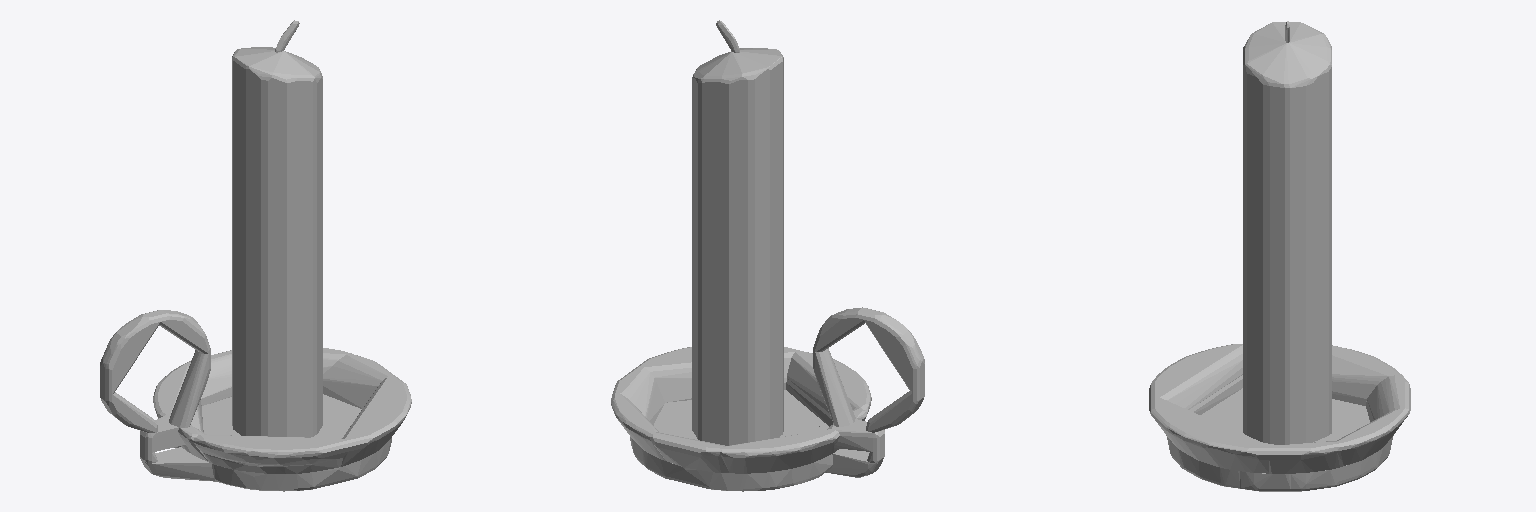
URDF robot description (root):
<robot name="root">
  <link name="body">
    <visual>
      <origin xyz="0 0 0" rpy="0 0 0"/>
      <geometry>
        <mesh filename="coacd_convex_piece_0.obj" scale="1.0000E+00 1.0000E+00 1.0000E+00"/>
      </geometry>
      <material name="">
        <color rgba="7.50E-01 7.50E-01 7.50E-01 1"/>
      </material>
    </visual>
    <collision>
      <origin xyz="0 0 0" rpy="0 0 0"/>
      <geometry>
        <mesh filename="coacd_convex_piece_0.obj" scale="1.0000E+00 1.0000E+00 1.0000E+00"/>
      </geometry>
    </collision>
    <visual>
      <origin xyz="0 0 0" rpy="0 0 0"/>
      <geometry>
        <mesh filename="coacd_convex_piece_1.obj" scale="1.0000E+00 1.0000E+00 1.0000E+00"/>
      </geometry>
      <material name="">
        <color rgba="7.50E-01 7.50E-01 7.50E-01 1"/>
      </material>
    </visual>
    <collision>
      <origin xyz="0 0 0" rpy="0 0 0"/>
      <geometry>
        <mesh filename="coacd_convex_piece_1.obj" scale="1.0000E+00 1.0000E+00 1.0000E+00"/>
      </geometry>
    </collision>
    <visual>
      <origin xyz="0 0 0" rpy="0 0 0"/>
      <geometry>
        <mesh filename="coacd_convex_piece_2.obj" scale="1.0000E+00 1.0000E+00 1.0000E+00"/>
      </geometry>
      <material name="">
        <color rgba="7.50E-01 7.50E-01 7.50E-01 1"/>
      </material>
    </visual>
    <collision>
      <origin xyz="0 0 0" rpy="0 0 0"/>
      <geometry>
        <mesh filename="coacd_convex_piece_2.obj" scale="1.0000E+00 1.0000E+00 1.0000E+00"/>
      </geometry>
    </collision>
    <visual>
      <origin xyz="0 0 0" rpy="0 0 0"/>
      <geometry>
        <mesh filename="coacd_convex_piece_3.obj" scale="1.0000E+00 1.0000E+00 1.0000E+00"/>
      </geometry>
      <material name="">
        <color rgba="7.50E-01 7.50E-01 7.50E-01 1"/>
      </material>
    </visual>
    <collision>
      <origin xyz="0 0 0" rpy="0 0 0"/>
      <geometry>
        <mesh filename="coacd_convex_piece_3.obj" scale="1.0000E+00 1.0000E+00 1.0000E+00"/>
      </geometry>
    </collision>
    <visual>
      <origin xyz="0 0 0" rpy="0 0 0"/>
      <geometry>
        <mesh filename="coacd_convex_piece_4.obj" scale="1.0000E+00 1.0000E+00 1.0000E+00"/>
      </geometry>
      <material name="">
        <color rgba="7.50E-01 7.50E-01 7.50E-01 1"/>
      </material>
    </visual>
    <collision>
      <origin xyz="0 0 0" rpy="0 0 0"/>
      <geometry>
        <mesh filename="coacd_convex_piece_4.obj" scale="1.0000E+00 1.0000E+00 1.0000E+00"/>
      </geometry>
    </collision>
    <visual>
      <origin xyz="0 0 0" rpy="0 0 0"/>
      <geometry>
        <mesh filename="coacd_convex_piece_5.obj" scale="1.0000E+00 1.0000E+00 1.0000E+00"/>
      </geometry>
      <material name="">
        <color rgba="7.50E-01 7.50E-01 7.50E-01 1"/>
      </material>
    </visual>
    <collision>
      <origin xyz="0 0 0" rpy="0 0 0"/>
      <geometry>
        <mesh filename="coacd_convex_piece_5.obj" scale="1.0000E+00 1.0000E+00 1.0000E+00"/>
      </geometry>
    </collision>
    <visual>
      <origin xyz="0 0 0" rpy="0 0 0"/>
      <geometry>
        <mesh filename="coacd_convex_piece_6.obj" scale="1.0000E+00 1.0000E+00 1.0000E+00"/>
      </geometry>
      <material name="">
        <color rgba="7.50E-01 7.50E-01 7.50E-01 1"/>
      </material>
    </visual>
    <collision>
      <origin xyz="0 0 0" rpy="0 0 0"/>
      <geometry>
        <mesh filename="coacd_convex_piece_6.obj" scale="1.0000E+00 1.0000E+00 1.0000E+00"/>
      </geometry>
    </collision>
    <visual>
      <origin xyz="0 0 0" rpy="0 0 0"/>
      <geometry>
        <mesh filename="coacd_convex_piece_7.obj" scale="1.0000E+00 1.0000E+00 1.0000E+00"/>
      </geometry>
      <material name="">
        <color rgba="7.50E-01 7.50E-01 7.50E-01 1"/>
      </material>
    </visual>
    <collision>
      <origin xyz="0 0 0" rpy="0 0 0"/>
      <geometry>
        <mesh filename="coacd_convex_piece_7.obj" scale="1.0000E+00 1.0000E+00 1.0000E+00"/>
      </geometry>
    </collision>
    <visual>
      <origin xyz="0 0 0" rpy="0 0 0"/>
      <geometry>
        <mesh filename="coacd_convex_piece_8.obj" scale="1.0000E+00 1.0000E+00 1.0000E+00"/>
      </geometry>
      <material name="">
        <color rgba="7.50E-01 7.50E-01 7.50E-01 1"/>
      </material>
    </visual>
    <collision>
      <origin xyz="0 0 0" rpy="0 0 0"/>
      <geometry>
        <mesh filename="coacd_convex_piece_8.obj" scale="1.0000E+00 1.0000E+00 1.0000E+00"/>
      </geometry>
    </collision>
    <visual>
      <origin xyz="0 0 0" rpy="0 0 0"/>
      <geometry>
        <mesh filename="coacd_convex_piece_9.obj" scale="1.0000E+00 1.0000E+00 1.0000E+00"/>
      </geometry>
      <material name="">
        <color rgba="7.50E-01 7.50E-01 7.50E-01 1"/>
      </material>
    </visual>
    <collision>
      <origin xyz="0 0 0" rpy="0 0 0"/>
      <geometry>
        <mesh filename="coacd_convex_piece_9.obj" scale="1.0000E+00 1.0000E+00 1.0000E+00"/>
      </geometry>
    </collision>
    <visual>
      <origin xyz="0 0 0" rpy="0 0 0"/>
      <geometry>
        <mesh filename="coacd_convex_piece_10.obj" scale="1.0000E+00 1.0000E+00 1.0000E+00"/>
      </geometry>
      <material name="">
        <color rgba="7.50E-01 7.50E-01 7.50E-01 1"/>
      </material>
    </visual>
    <collision>
      <origin xyz="0 0 0" rpy="0 0 0"/>
      <geometry>
        <mesh filename="coacd_convex_piece_10.obj" scale="1.0000E+00 1.0000E+00 1.0000E+00"/>
      </geometry>
    </collision>
    <visual>
      <origin xyz="0 0 0" rpy="0 0 0"/>
      <geometry>
        <mesh filename="coacd_convex_piece_11.obj" scale="1.0000E+00 1.0000E+00 1.0000E+00"/>
      </geometry>
      <material name="">
        <color rgba="7.50E-01 7.50E-01 7.50E-01 1"/>
      </material>
    </visual>
    <collision>
      <origin xyz="0 0 0" rpy="0 0 0"/>
      <geometry>
        <mesh filename="coacd_convex_piece_11.obj" scale="1.0000E+00 1.0000E+00 1.0000E+00"/>
      </geometry>
    </collision>
    <visual>
      <origin xyz="0 0 0" rpy="0 0 0"/>
      <geometry>
        <mesh filename="coacd_convex_piece_12.obj" scale="1.0000E+00 1.0000E+00 1.0000E+00"/>
      </geometry>
      <material name="">
        <color rgba="7.50E-01 7.50E-01 7.50E-01 1"/>
      </material>
    </visual>
    <collision>
      <origin xyz="0 0 0" rpy="0 0 0"/>
      <geometry>
        <mesh filename="coacd_convex_piece_12.obj" scale="1.0000E+00 1.0000E+00 1.0000E+00"/>
      </geometry>
    </collision>
    <visual>
      <origin xyz="0 0 0" rpy="0 0 0"/>
      <geometry>
        <mesh filename="coacd_convex_piece_13.obj" scale="1.0000E+00 1.0000E+00 1.0000E+00"/>
      </geometry>
      <material name="">
        <color rgba="7.50E-01 7.50E-01 7.50E-01 1"/>
      </material>
    </visual>
    <collision>
      <origin xyz="0 0 0" rpy="0 0 0"/>
      <geometry>
        <mesh filename="coacd_convex_piece_13.obj" scale="1.0000E+00 1.0000E+00 1.0000E+00"/>
      </geometry>
    </collision>
    <visual>
      <origin xyz="0 0 0" rpy="0 0 0"/>
      <geometry>
        <mesh filename="coacd_convex_piece_14.obj" scale="1.0000E+00 1.0000E+00 1.0000E+00"/>
      </geometry>
      <material name="">
        <color rgba="7.50E-01 7.50E-01 7.50E-01 1"/>
      </material>
    </visual>
    <collision>
      <origin xyz="0 0 0" rpy="0 0 0"/>
      <geometry>
        <mesh filename="coacd_convex_piece_14.obj" scale="1.0000E+00 1.0000E+00 1.0000E+00"/>
      </geometry>
    </collision>
    <visual>
      <origin xyz="0 0 0" rpy="0 0 0"/>
      <geometry>
        <mesh filename="coacd_convex_piece_15.obj" scale="1.0000E+00 1.0000E+00 1.0000E+00"/>
      </geometry>
      <material name="">
        <color rgba="7.50E-01 7.50E-01 7.50E-01 1"/>
      </material>
    </visual>
    <collision>
      <origin xyz="0 0 0" rpy="0 0 0"/>
      <geometry>
        <mesh filename="coacd_convex_piece_15.obj" scale="1.0000E+00 1.0000E+00 1.0000E+00"/>
      </geometry>
    </collision>
    <visual>
      <origin xyz="0 0 0" rpy="0 0 0"/>
      <geometry>
        <mesh filename="coacd_convex_piece_16.obj" scale="1.0000E+00 1.0000E+00 1.0000E+00"/>
      </geometry>
      <material name="">
        <color rgba="7.50E-01 7.50E-01 7.50E-01 1"/>
      </material>
    </visual>
    <collision>
      <origin xyz="0 0 0" rpy="0 0 0"/>
      <geometry>
        <mesh filename="coacd_convex_piece_16.obj" scale="1.0000E+00 1.0000E+00 1.0000E+00"/>
      </geometry>
    </collision>
    <visual>
      <origin xyz="0 0 0" rpy="0 0 0"/>
      <geometry>
        <mesh filename="coacd_convex_piece_17.obj" scale="1.0000E+00 1.0000E+00 1.0000E+00"/>
      </geometry>
      <material name="">
        <color rgba="7.50E-01 7.50E-01 7.50E-01 1"/>
      </material>
    </visual>
    <collision>
      <origin xyz="0 0 0" rpy="0 0 0"/>
      <geometry>
        <mesh filename="coacd_convex_piece_17.obj" scale="1.0000E+00 1.0000E+00 1.0000E+00"/>
      </geometry>
    </collision>
    <visual>
      <origin xyz="0 0 0" rpy="0 0 0"/>
      <geometry>
        <mesh filename="coacd_convex_piece_18.obj" scale="1.0000E+00 1.0000E+00 1.0000E+00"/>
      </geometry>
      <material name="">
        <color rgba="7.50E-01 7.50E-01 7.50E-01 1"/>
      </material>
    </visual>
    <collision>
      <origin xyz="0 0 0" rpy="0 0 0"/>
      <geometry>
        <mesh filename="coacd_convex_piece_18.obj" scale="1.0000E+00 1.0000E+00 1.0000E+00"/>
      </geometry>
    </collision>
  </link>
</robot>

--- What the picture shows (computed from the rendered views, not written in the file) ---
3 views of the same robot in one strip: view 1: azimuth 30°, elevation 25°; view 2: azimuth 150°, elevation 25°; view 3: azimuth 270°, elevation 25° (orthographic).
Robot: root — 1 links, 0 joints (none); root link body; default pose: all joints at 0.
Visible links, largest first — view 1: body; view 2: body; view 3: body.
Boxes of the visible links, box(x1,y1,x2,y2) form: body: box(100, 20, 411, 491); body: box(611, 20, 924, 491); body: box(1149, 21, 1410, 491).
Bounding box of the posed robot: 1.2 × 0.9099 × 1.67 m (x, y, z).
Meshes: 19 distinct files referenced, 19 mesh visuals loaded (19 OBJ).
